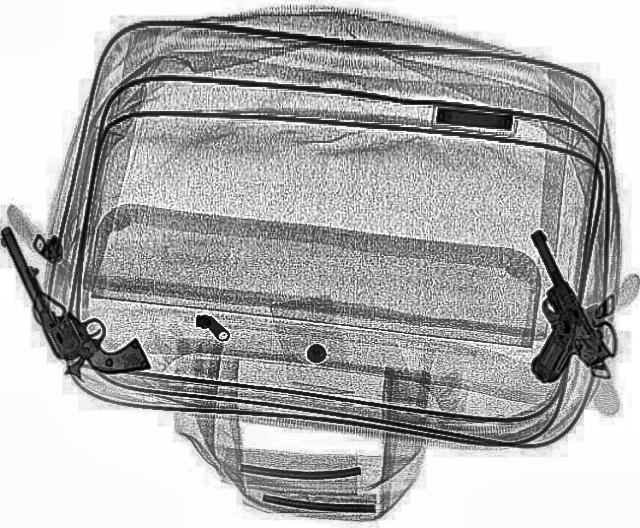Gun: (0, 212, 150, 386), (465, 227, 615, 385)
